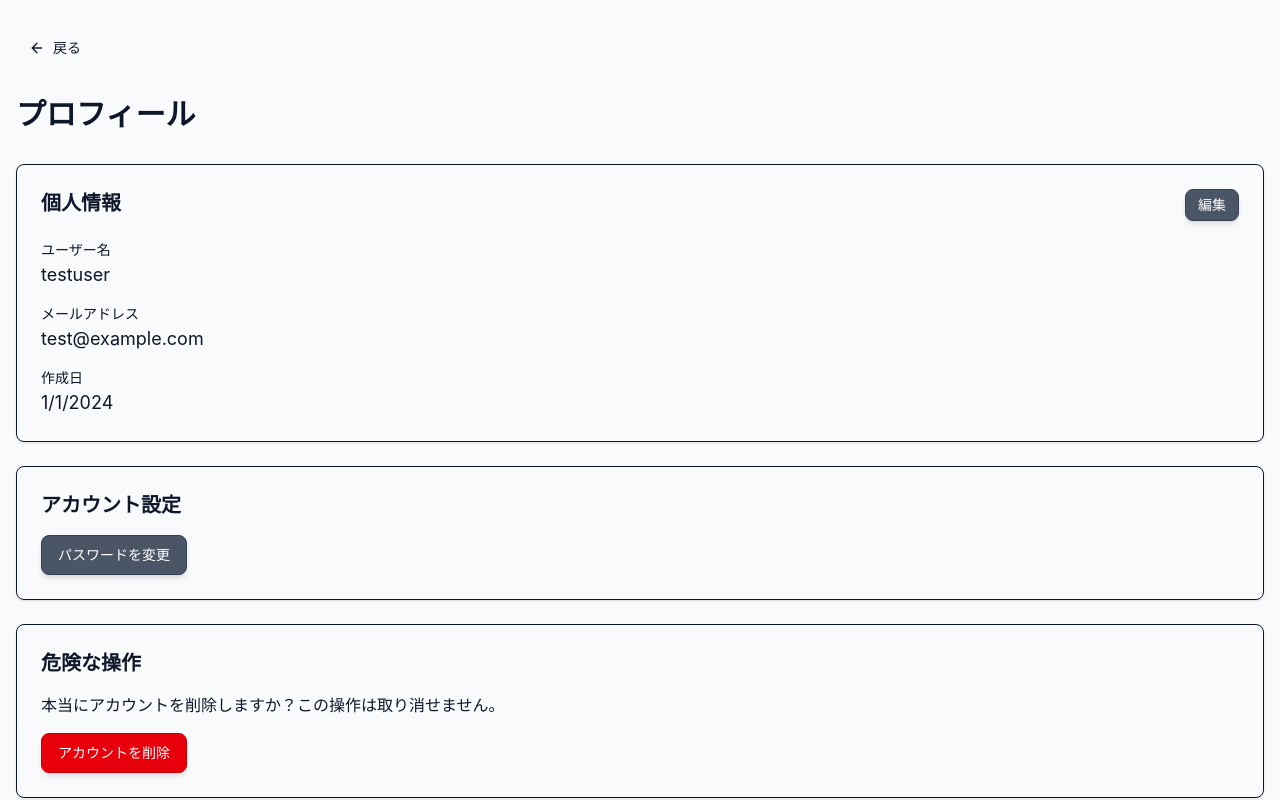
ProfilePage › opens change password modal when button is clicked
Step 1. Click the button "パスワードを変更" → [114, 555], box [41,535,187,575]
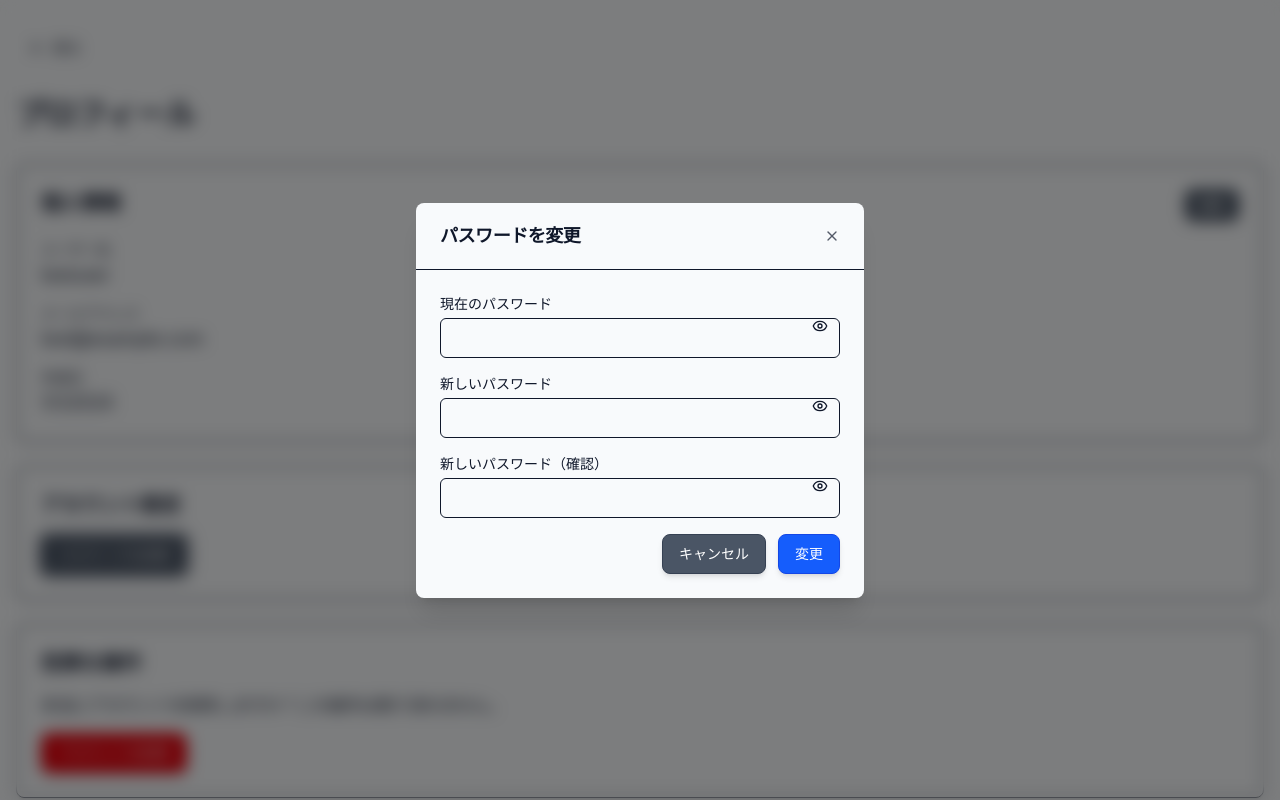
Result: the heading "パスワードを変更" is shown at [440,226,580,244]
Result: the password field labelled "現在のパスワード" is shown at [440,318,840,358]
Result: the password field labelled "新しいパスワード" is shown at [440,398,840,438]
